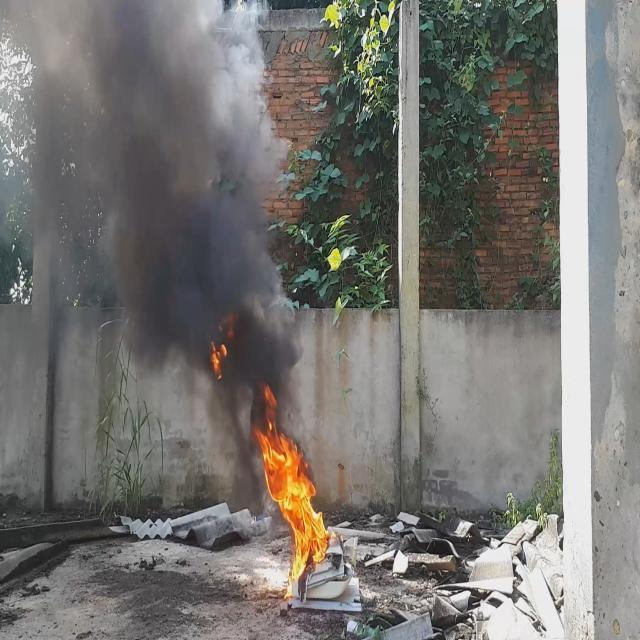Fire: (250, 385, 336, 616)
Smoke: (0, 0, 302, 444)
